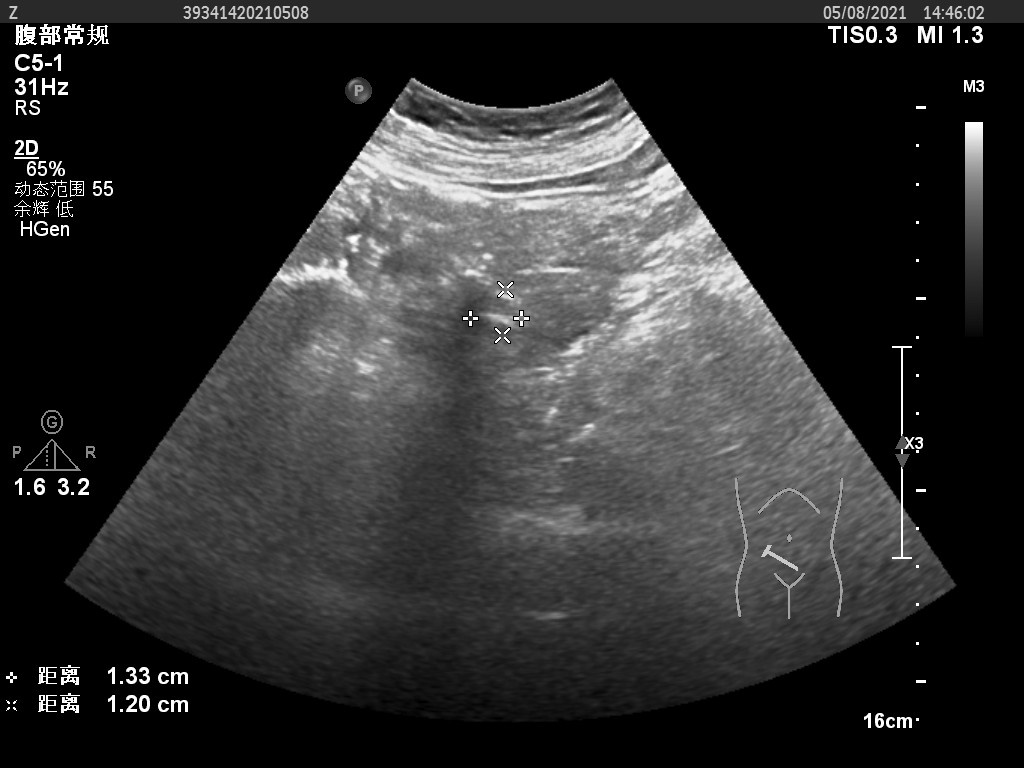肌瘤: (468, 291, 520, 332)
